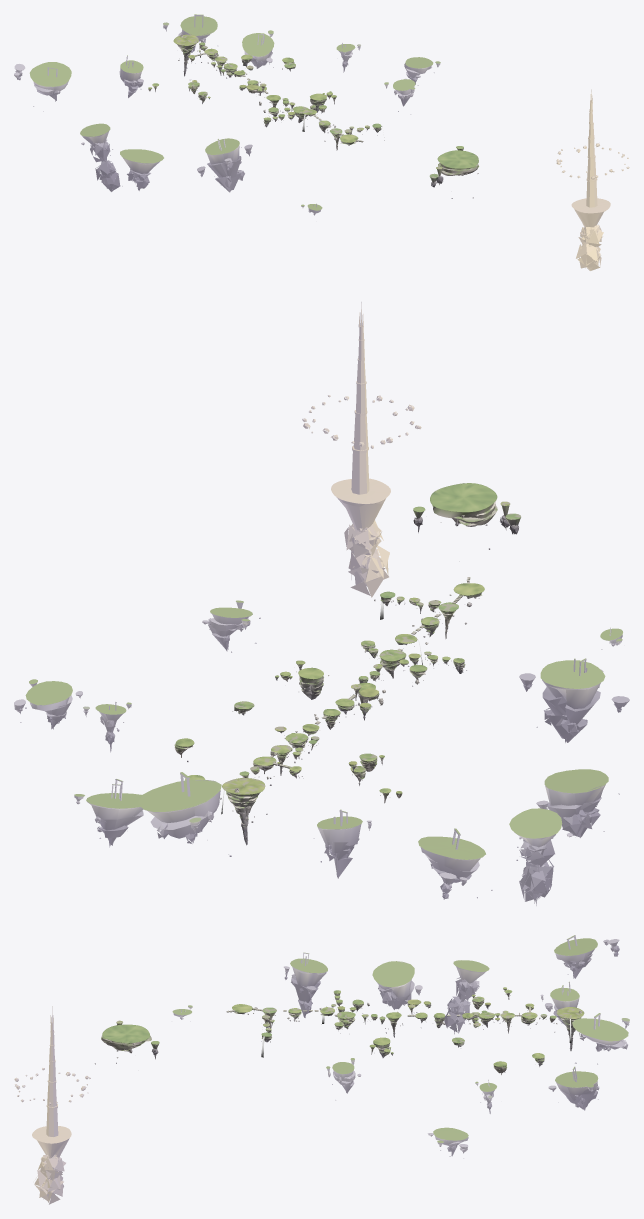
Rendered from world.glb.
The picture shows the model from 3 angles, top to bottom: view 1: azimuth 30°, elevation 25°; view 2: azimuth 150°, elevation 25°; view 3: azimuth 270°, elevation 25°; orthographic projection. The views are drawn at different scales.
Visible parts, largest first — view 1: distant__haze, landmark__spire, islands__grass (×2), islands__rock, distant__l2__grass, distant__l2__rock; view 2: distant__haze, landmark__spire, islands__grass (×2), islands__rock, distant__l2__grass, distant__l2__rock; view 3: distant__haze, landmark__spire, islands__grass (×2), islands__rock (×2), distant__l2__grass, distant__l2__rock.
Part boxes in pixels (x1,y1,x2,y2): distant__haze: (14,14,440,215); landmark__spire: (571,89,610,270); islands__grass (×2): (148,34,381,142); islands__rock: (177,44,381,150); distant__l2__grass: (429,146,478,177); distant__l2__rock: (430,148,478,198); distant__haze: (14,600,629,905); landmark__spire: (331,302,390,597); islands__grass (×2): (175,583,484,794); islands__rock: (220,586,481,845); distant__l2__grass: (413,483,520,519); distant__l2__rock: (413,483,520,549); distant__haze: (172,935,629,1158); landmark__spire: (32,1006,71,1204); islands__grass (×2): (232,987,584,1066); islands__rock (×2): (234,989,581,1074); distant__l2__grass: (102,1020,159,1044); distant__l2__rock: (95,1023,159,1064).
Bounding box in the file's own units: 360 × 179 × 499.
